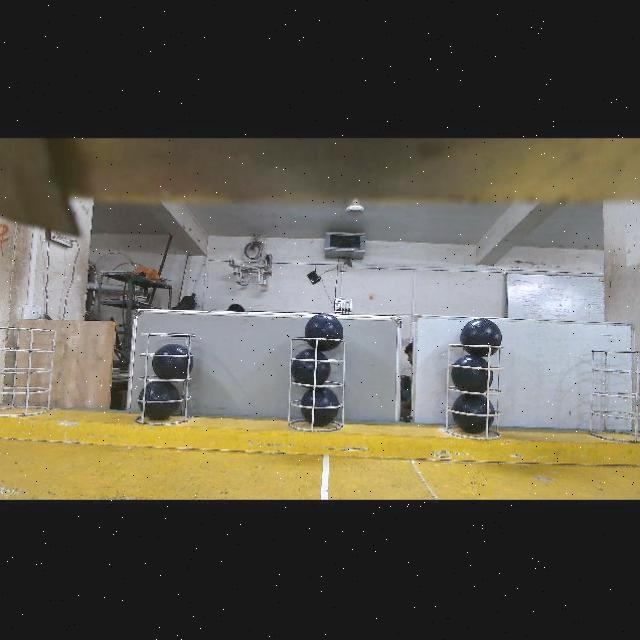P: (452, 395, 494, 434), (462, 318, 502, 358), (139, 383, 179, 421), (452, 356, 493, 393), (301, 389, 339, 427), (153, 345, 194, 380), (305, 315, 342, 352), (291, 350, 330, 385)
S: (133, 330, 195, 440), (443, 336, 509, 438), (0, 326, 60, 416), (582, 351, 640, 444), (294, 332, 346, 432)
